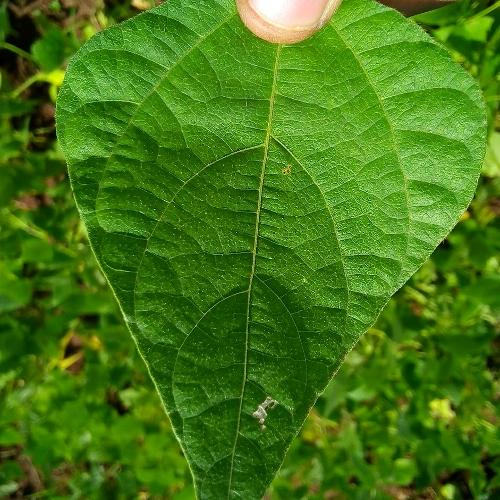sehat: (66, 18, 418, 408)
